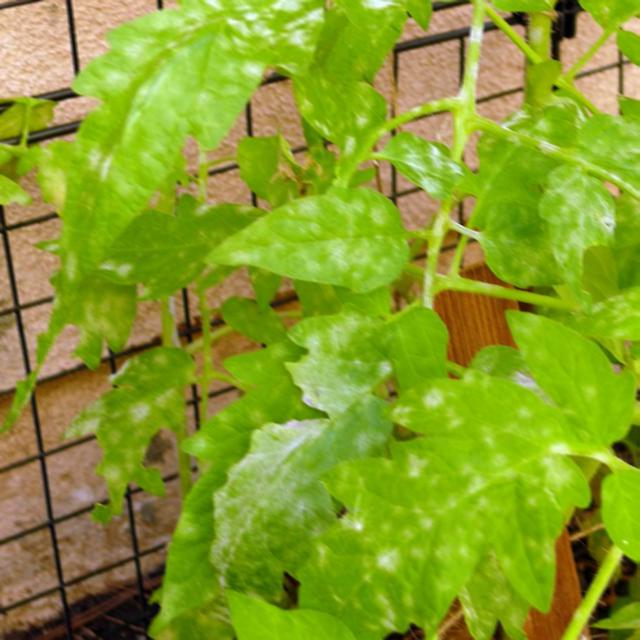Tomato mold leaf: (0, 0, 354, 412), (310, 309, 640, 630), (544, 112, 640, 423), (182, 184, 429, 289), (393, 131, 485, 202), (594, 0, 640, 87)
